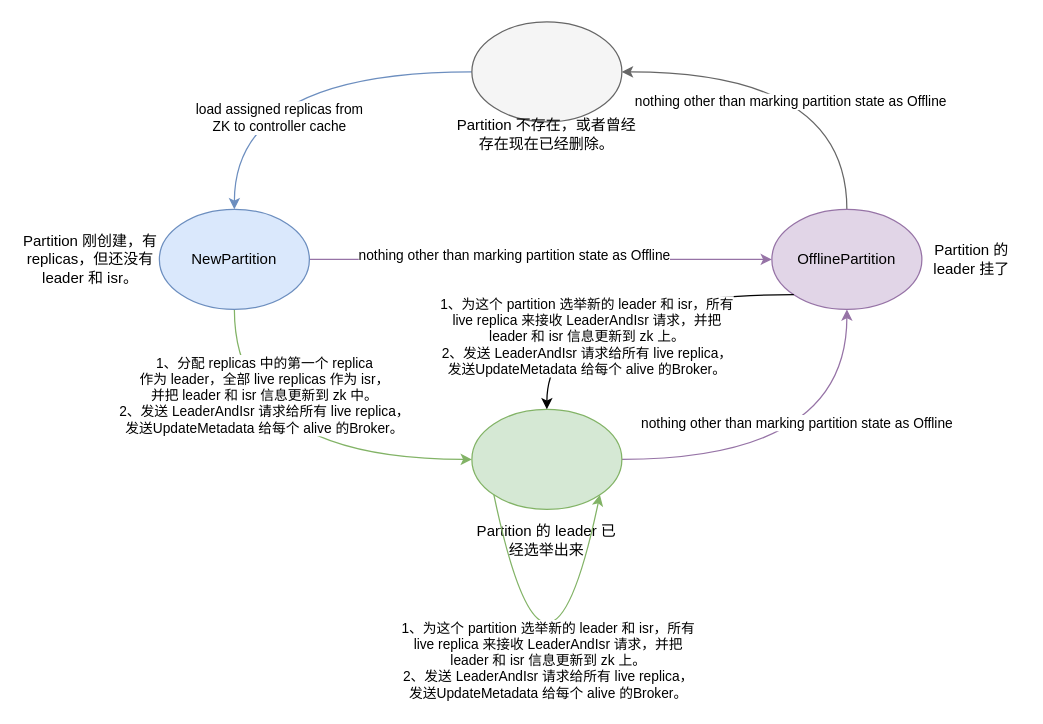
Some shapes in this 1043 by 724 pixel diagram are drawn without their labels. Here are the shapes that lost their labels. From the top down, the centre of each, then its label:
point (546, 71): NonExistentPartition
point (546, 458): OnlinePartition
